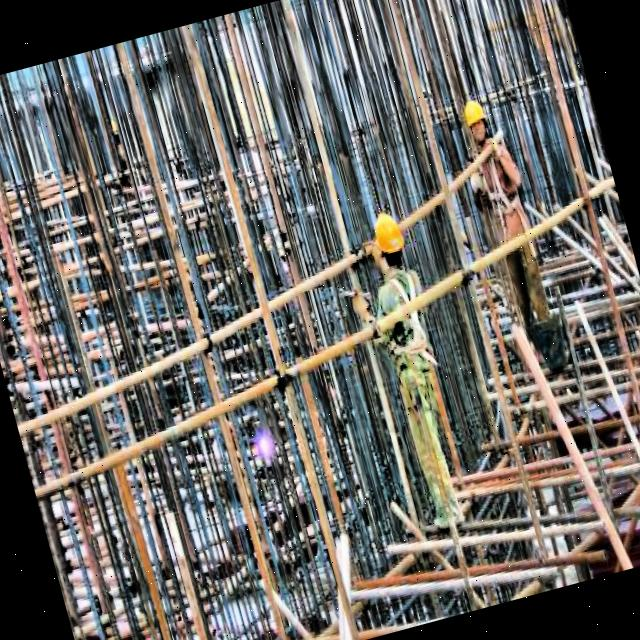helmet: (364, 205, 412, 272), (460, 92, 496, 146)
